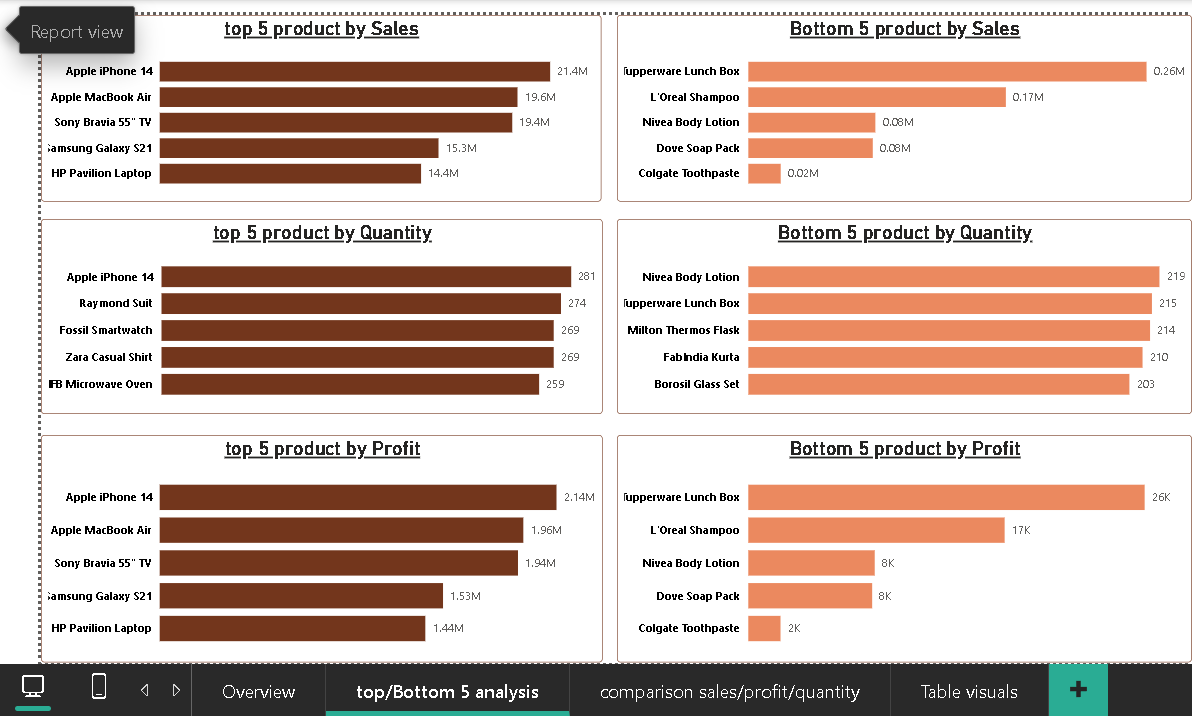

What the dashboard file says about the page in this screenshot:
{"tool":"powerbi","page":{"name":"top/Bottom 5 analysis","canvas":[1280,720],"ordinal":1},"visuals":[{"type":"barChart","title":"top 5 product by Sales","fields":{"Category":["Dim Product.Product Name"],"Y":["Sum(Fact Table.Net Sales)"]},"box":[0,0,622.3,207.4],"z":0},{"type":"barChart","title":"Bottom 5 product by Sales","fields":{"Category":["Dim Product.Product Name"],"Y":["Sum(Fact Table.Net Sales)"]},"box":[640.5,0,639,207.4],"z":1000},{"type":"barChart","title":"top 5 product by Quantity","fields":{"Category":["Dim Product.Product Name"],"Y":["Sum(Fact Table.Units Sold)"]},"box":[0,227.1,623.9,216.5],"z":2000},{"type":"barChart","title":"Bottom 5 product by Quantity","fields":{"Category":["Dim Product.Product Name"],"Y":["Sum(Fact Table.Units Sold)"]},"box":[640.5,227.1,639,216.5],"z":3000},{"type":"barChart","title":"top 5 product by Profit","fields":{"Category":["Dim Product.Product Name"],"Y":["Sum(Fact Table.Profit)"]},"box":[0,466.4,623.9,252.9],"z":5000},{"type":"barChart","title":"Bottom 5 product by Profit","fields":{"Category":["Dim Product.Product Name"],"Y":["Sum(Fact Table.Profit)"]},"box":[640.5,466.4,639,252.9],"z":6000}]}

Visuals, with their boxes on the page's 1280x720 design canvas (x1, y1, x2, y2). These are canvas units, not pixel positions in the 1192x716 screenshot, which may show the page scaled, cropped or inside an application window:
"top 5 product by Sales" barChart: region(0, 0, 622, 207)
"Bottom 5 product by Sales" barChart: region(640, 0, 1280, 207)
"top 5 product by Quantity" barChart: region(0, 227, 624, 444)
"Bottom 5 product by Quantity" barChart: region(640, 227, 1280, 444)
"top 5 product by Profit" barChart: region(0, 466, 624, 719)
"Bottom 5 product by Profit" barChart: region(640, 466, 1280, 719)
